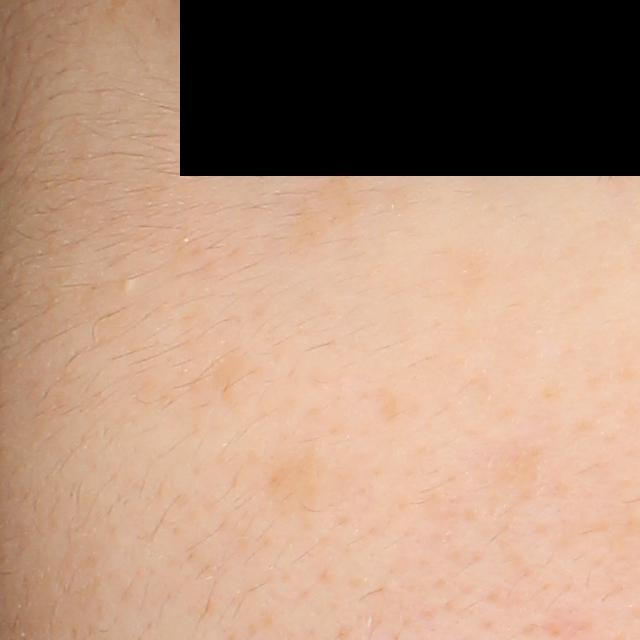comedo: (123, 276, 136, 293)
melasma: (275, 168, 367, 250), (255, 440, 327, 533)
